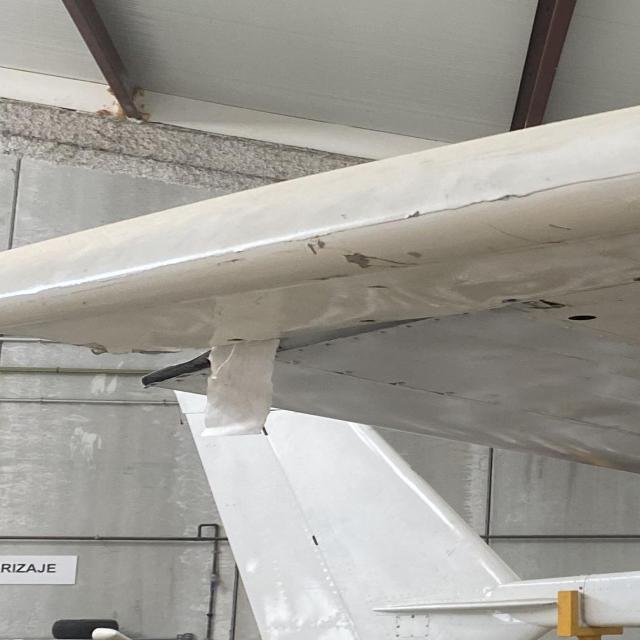Crack: (468, 186, 549, 207)
Missing-head: (499, 296, 522, 305), (356, 317, 379, 323)
Paint-off: (484, 221, 566, 249), (345, 251, 416, 270), (307, 238, 327, 255), (545, 222, 571, 235), (361, 282, 391, 293)
